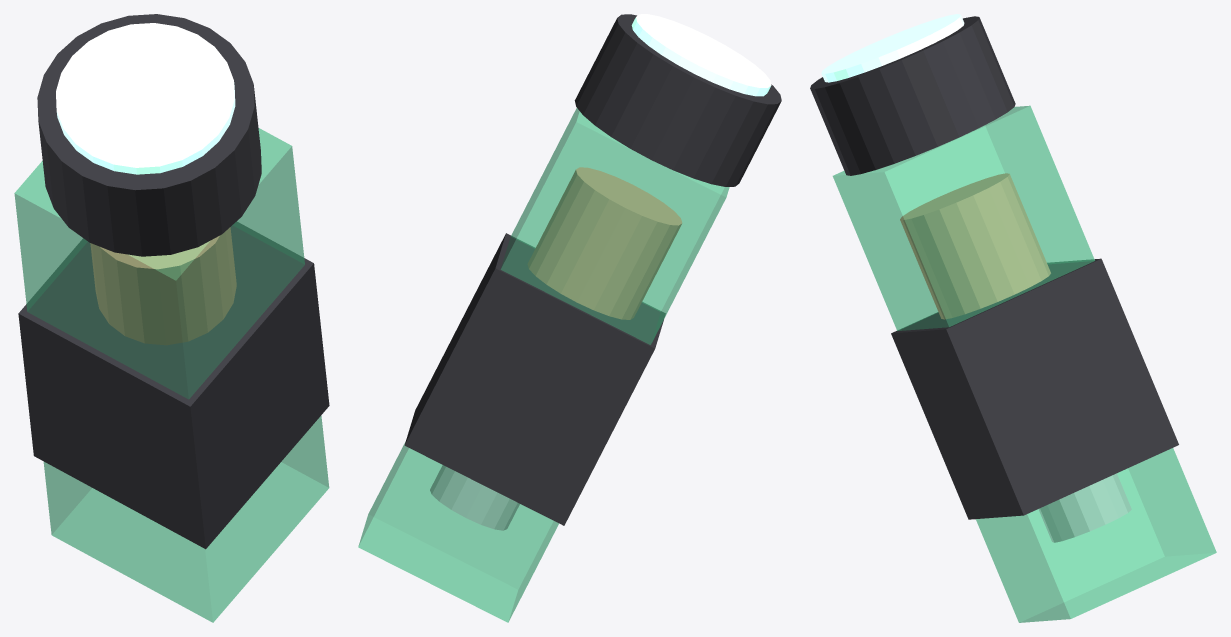
The model's file is shakerlight_gummy.glb.
The picture shows the model from 3 angles, left to right: view 1: azimuth 30°, elevation 25°; view 2: azimuth 150°, elevation 25°; view 3: azimuth 270°, elevation 25°; orthographic projection. The views are drawn at different scales.
Visible parts, largest first — view 1: GM_Grip, GM_Case, GM_Head, GM_Lens, GM_InductionCoil; view 2: GM_Case, GM_Grip, GM_Head, GM_InductionCoil, GM_Lens, GM_SlidingMagnet; view 3: GM_Case, GM_Grip, GM_Head, GM_InductionCoil, GM_SlidingMagnet, GM_Lens.
Boxes of the visible parts, x1=… form: GM_Grip: x1=18, y1=222, x2=329, y2=549; GM_Case: x1=14, y1=128, x2=329, y2=622; GM_Head: x1=37, y1=14, x2=261, y2=256; GM_Lens: x1=56, y1=23, x2=235, y2=174; GM_InductionCoil: x1=90, y1=227, x2=236, y2=345; GM_Case: x1=358, y1=108, x2=729, y2=622; GM_Grip: x1=404, y1=233, x2=665, y2=525; GM_Head: x1=574, y1=14, x2=781, y2=186; GM_InductionCoil: x1=527, y1=167, x2=681, y2=319; GM_Lens: x1=631, y1=14, x2=771, y2=96; GM_SlidingMagnet: x1=430, y1=465, x2=519, y2=530; GM_Case: x1=832, y1=105, x2=1216, y2=622; GM_Grip: x1=891, y1=258, x2=1178, y2=519; GM_Head: x1=810, y1=16, x2=1015, y2=175; GM_InductionCoil: x1=900, y1=173, x2=1050, y2=319; GM_SlidingMagnet: x1=1038, y1=473, x2=1131, y2=542; GM_Lens: x1=821, y1=14, x2=964, y2=82.
Bounding box in the file's own units: 0.1359 × 0.2256 × 0.1504.
